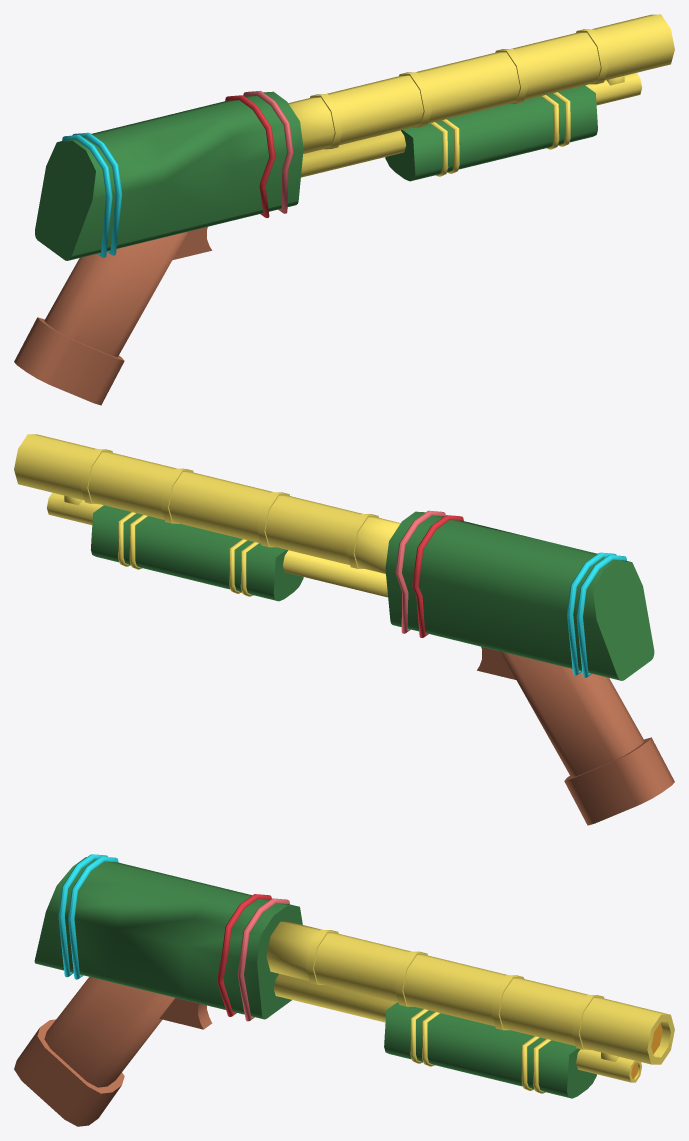
Rendered from shotgun.glb.
The picture shows the model from 3 angles, top to bottom: view 1: azimuth 30°, elevation 25°; view 2: azimuth 150°, elevation 25°; view 3: azimuth 330°, elevation 25°; orthographic projection.
Parts seen in each view (by area): view 1: shotgun, grip; view 2: shotgun, grip; view 3: shotgun, grip.
Part boxes in pixels (<box>): shotgun: <box>14,14,674,405</box>; grip: <box>385,85,597,181</box>; shotgun: <box>14,434,674,825</box>; grip: <box>91,505,303,601</box>; shotgun: <box>14,854,674,1126</box>; grip: <box>384,1002,596,1098</box>.
Size of the model in its own units: 1.55 by 0.6016 by 0.2123.
9 materials, 9 textured.
